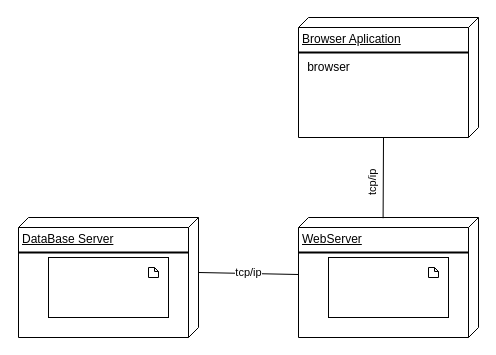
Image size: 496x355. Some labels were removed from this diagram. The centre of each missing label's shape, as x and y in pixels:
"MySql Server" belongs at [108,287].
"Node.js" belongs at [388,287].
